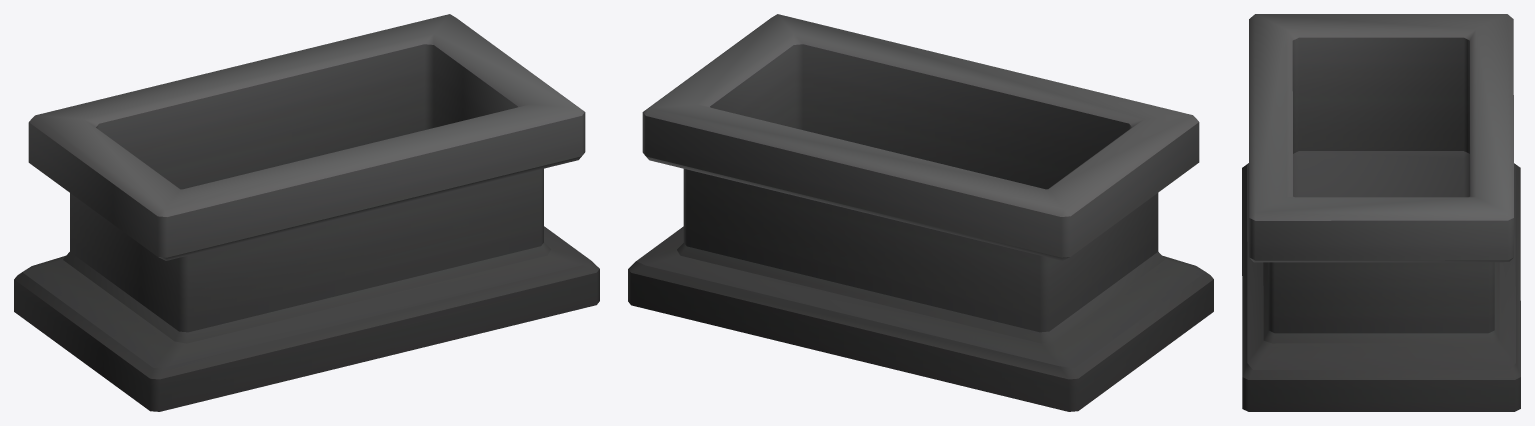
File: GraveB_1_1.glb
3 renders of one model, left to right at view 1: azimuth 30°, elevation 25°; view 2: azimuth 150°, elevation 25°; view 3: azimuth 270°, elevation 25°, orthographic. The views are drawn at different scales.
Parts seen in each view (by area): view 1: GraveB_1_1; view 2: GraveB_1_1; view 3: GraveB_1_1.
Part boxes in pixels (bbox=[...]): GraveB_1_1: bbox=[14, 14, 599, 411]; GraveB_1_1: bbox=[628, 14, 1213, 411]; GraveB_1_1: bbox=[1242, 14, 1520, 411].
Bounding box in the file's own units: 1.77 × 0.7311 × 0.9677.
1 material, 1 textured.
